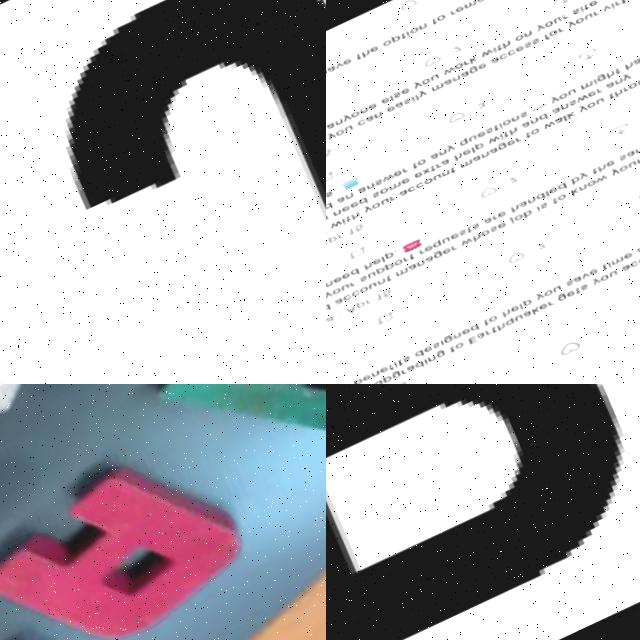1: (349, 228, 357, 236), (379, 292, 386, 300)
2: (539, 240, 550, 249), (511, 175, 521, 184), (453, 44, 463, 53)
3: (478, 100, 488, 108)
5: (385, 288, 397, 298), (356, 222, 368, 232), (326, 147, 334, 156), (426, 381, 437, 384)
A: (0, 419, 282, 640)
B: (326, 384, 626, 640)
D: (129, 384, 326, 491)
J: (0, 0, 326, 384)
